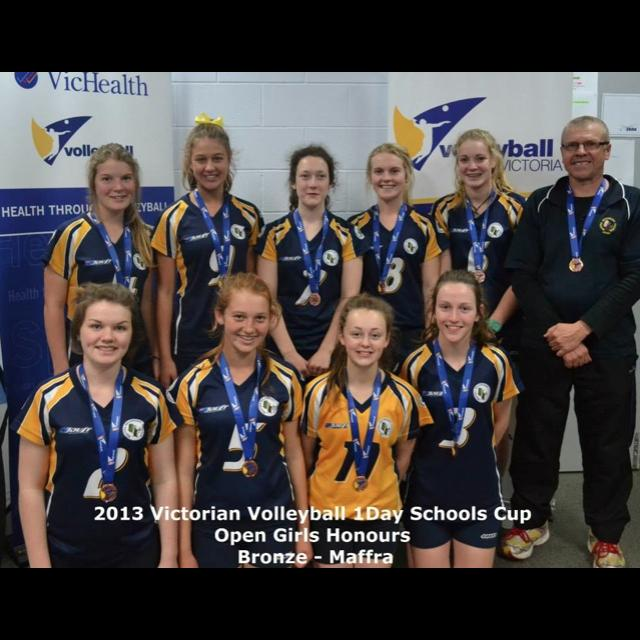head: (214, 274, 276, 356), (76, 289, 138, 366), (337, 296, 395, 370), (558, 115, 616, 181), (434, 272, 484, 344), (188, 122, 236, 192), (90, 147, 138, 213), (289, 148, 335, 212), (455, 130, 501, 190), (366, 143, 412, 203)
person: (154, 110, 270, 522), (40, 137, 166, 503), (427, 125, 543, 517), (256, 141, 370, 501), (340, 139, 450, 487)
